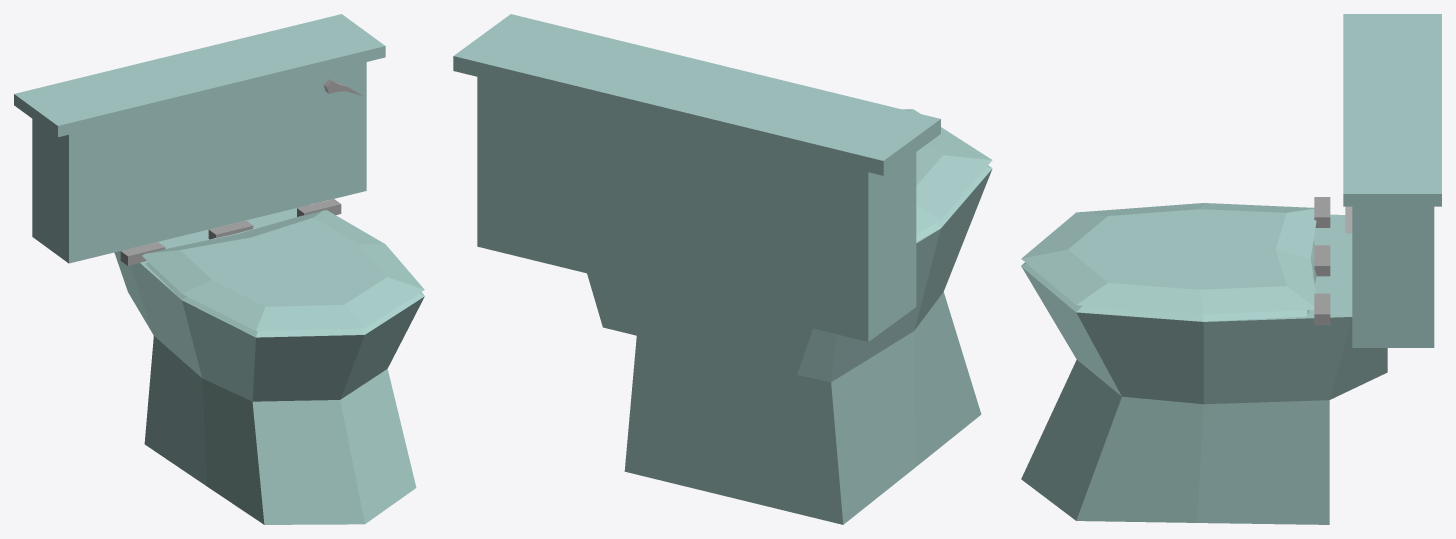
The model's file is Toilet3.fbx.
3 renders of one model, left to right at view 1: azimuth 30°, elevation 25°; view 2: azimuth 150°, elevation 25°; view 3: azimuth 270°, elevation 25°, orthographic. The views are drawn at different scales.
Parts seen in each view (by area): view 1: Cube.001, Cube.000, Cube.002; view 2: Cube.001, Cube.000, Cube.002; view 3: Cube.001, Cube.000, Cube.002.
Part boxes in pixels (x1,y1,x2,y2): Cube.001: [14, 14, 424, 524]; Cube.000: [120, 199, 424, 330]; Cube.002: [145, 220, 424, 337]; Cube.001: [453, 14, 992, 524]; Cube.000: [902, 109, 992, 233]; Cube.002: [916, 165, 992, 241]; Cube.001: [1021, 14, 1441, 524]; Cube.000: [1021, 197, 1330, 325]; Cube.002: [1021, 241, 1330, 321].
Bounding box in the file's own units: 1.3 × 1.27 × 1.29.
